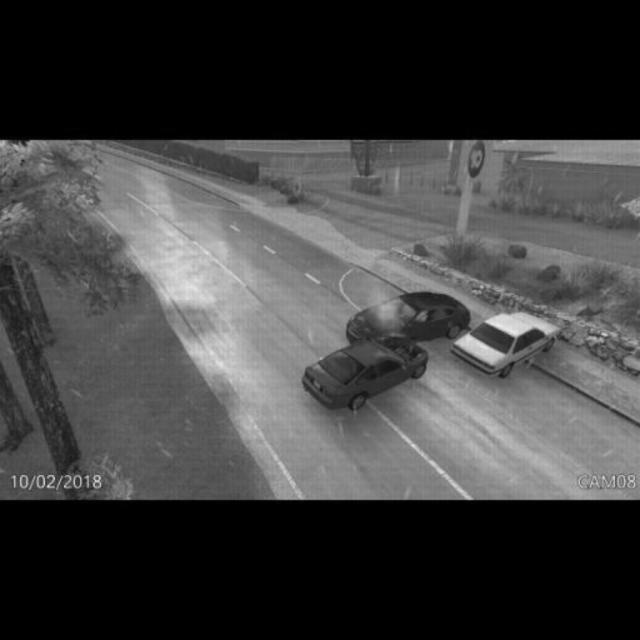accident: (305, 296, 453, 408)
vehicle: (452, 296, 562, 380)
